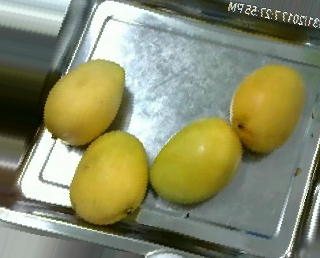Mango: (145, 111, 245, 214), (67, 122, 153, 222), (225, 57, 307, 158), (41, 60, 134, 144)
